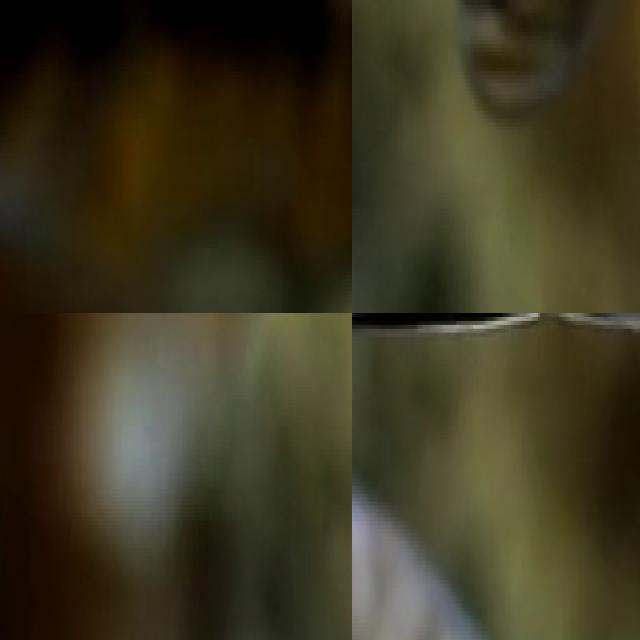fish: (0, 0, 352, 313), (352, 474, 640, 640)
